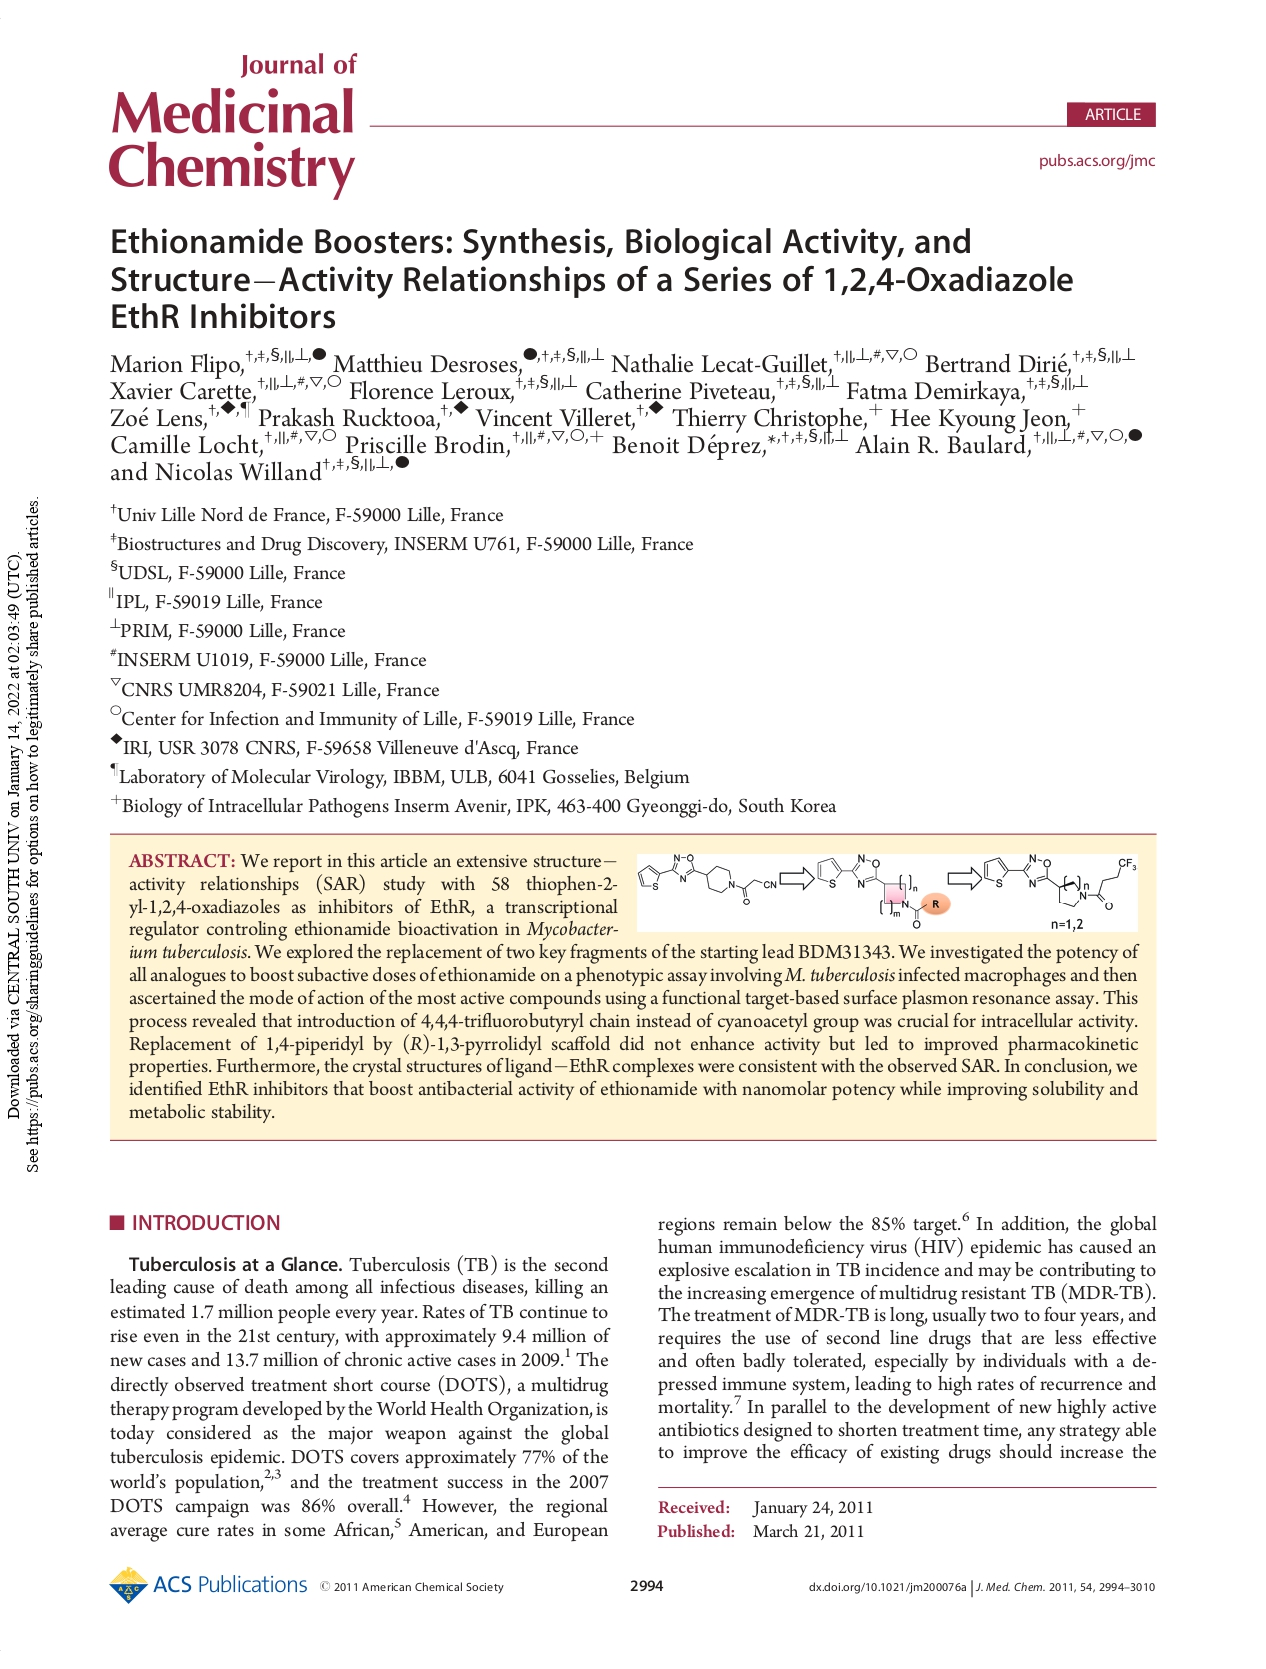exist_molecular: (813, 854, 951, 930), (981, 852, 1137, 914), (636, 852, 779, 906)
